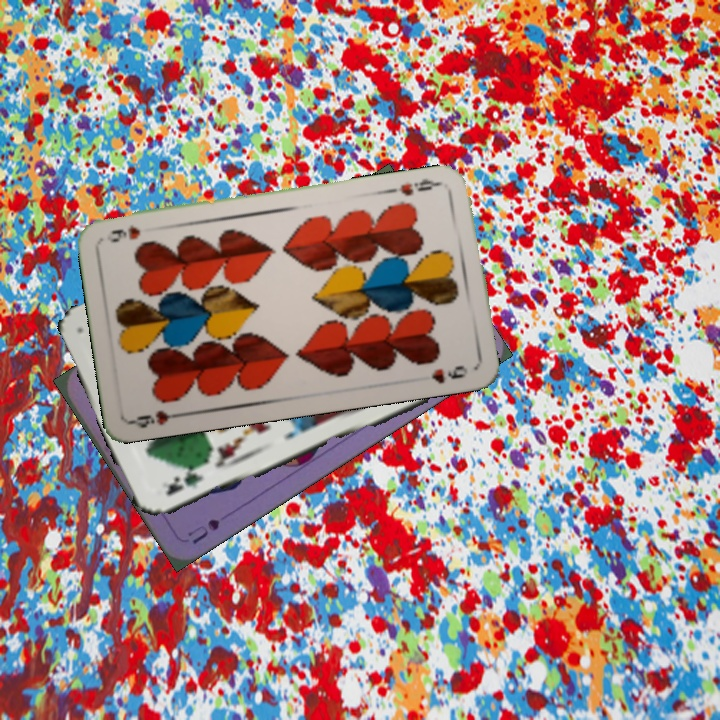GK: (161, 461, 207, 498)
H9: (128, 406, 187, 431), (387, 174, 445, 198)
SU: (183, 515, 223, 547)
